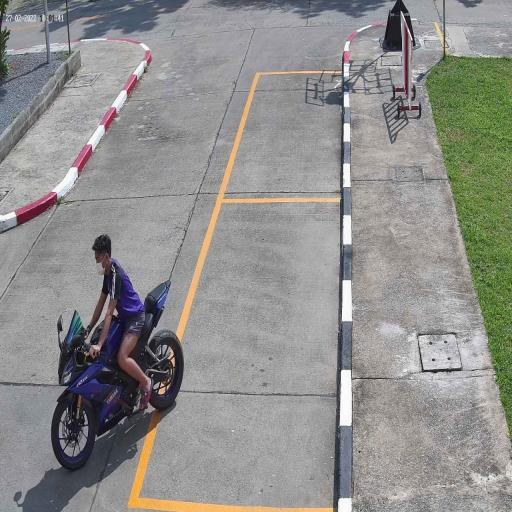motorcycle: (50, 312, 186, 472)
